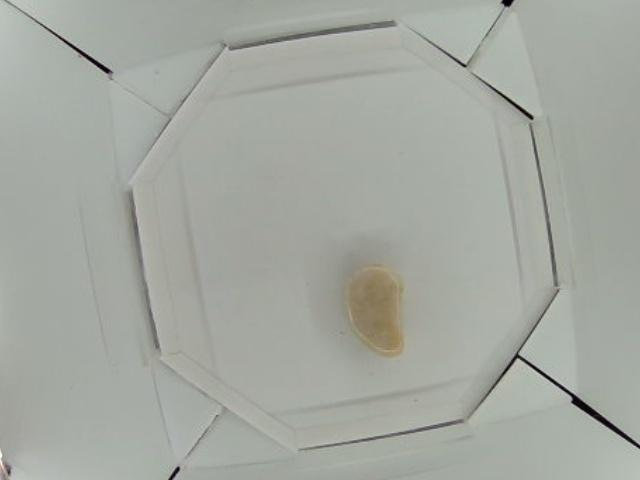Pebble: (347, 268, 405, 357)
